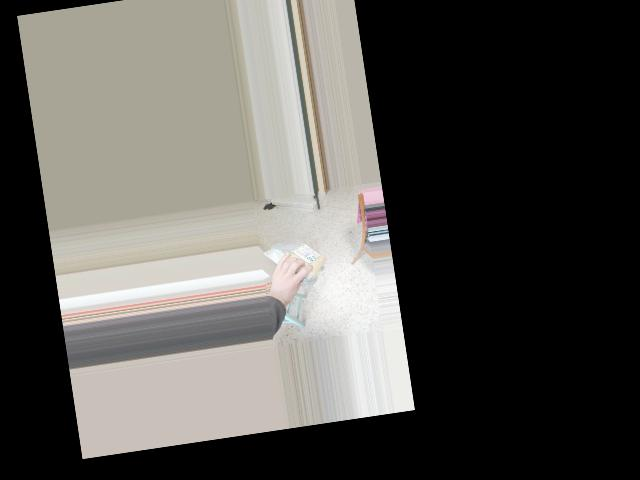cheese: (261, 239, 326, 280)
